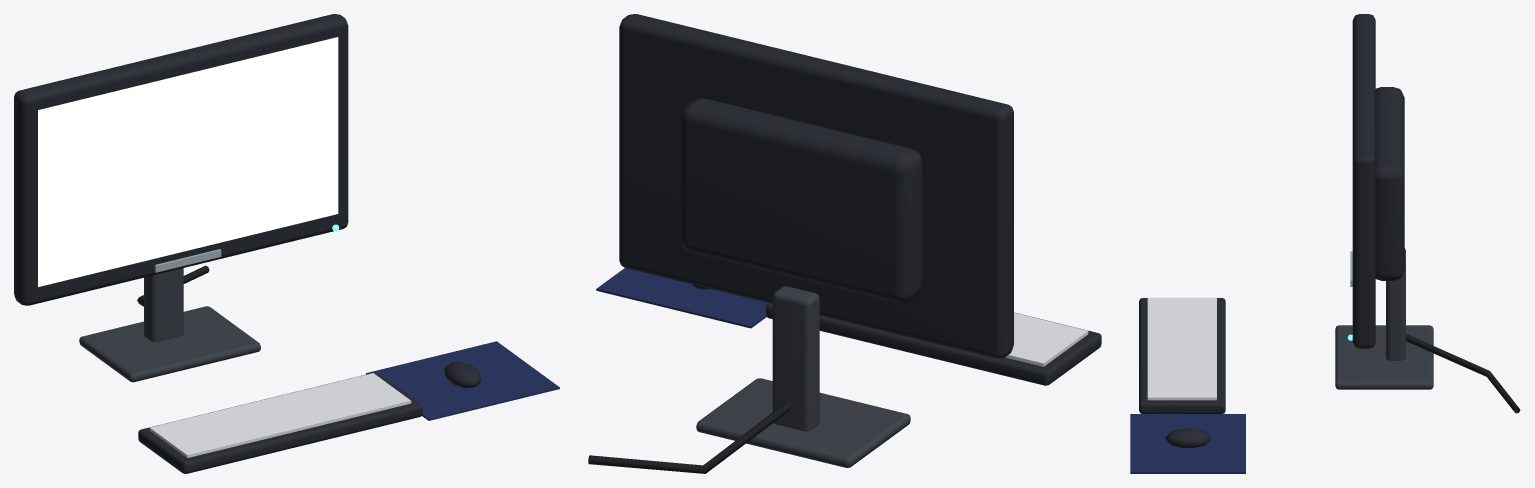
The model's file is Computer.fbx.
The picture shows the model from 3 angles, left to right: view 1: azimuth 30°, elevation 25°; view 2: azimuth 150°, elevation 25°; view 3: azimuth 270°, elevation 25°; orthographic projection. The views are drawn at different scales.
Parts seen in each view (by area): view 1: Screen, ComputerBody; view 2: ComputerBody; view 3: ComputerBody.
Part boxes in pixels (box(x1,y1,x2,y2)): Screen: box(38, 37, 338, 286); ComputerBody: box(14, 14, 559, 473); ComputerBody: box(588, 14, 1101, 473); ComputerBody: box(1130, 14, 1520, 473).
Size of the model in its own units: 0.76 by 0.5352 by 0.6757.
